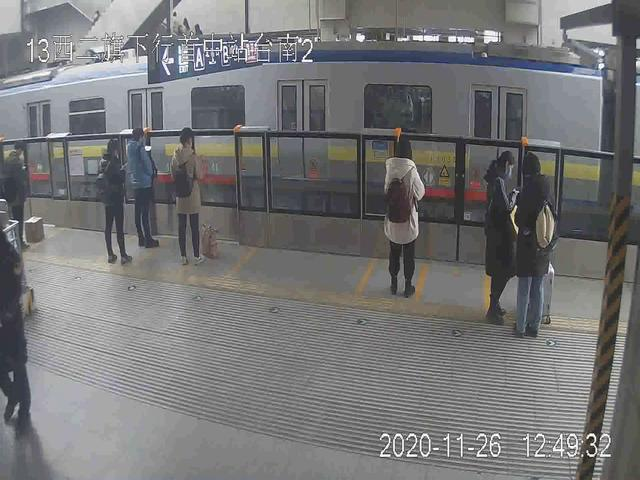person: (518, 155, 559, 341), (478, 138, 518, 326), (169, 116, 218, 262), (384, 126, 425, 299), (100, 132, 135, 266), (126, 124, 162, 251)
